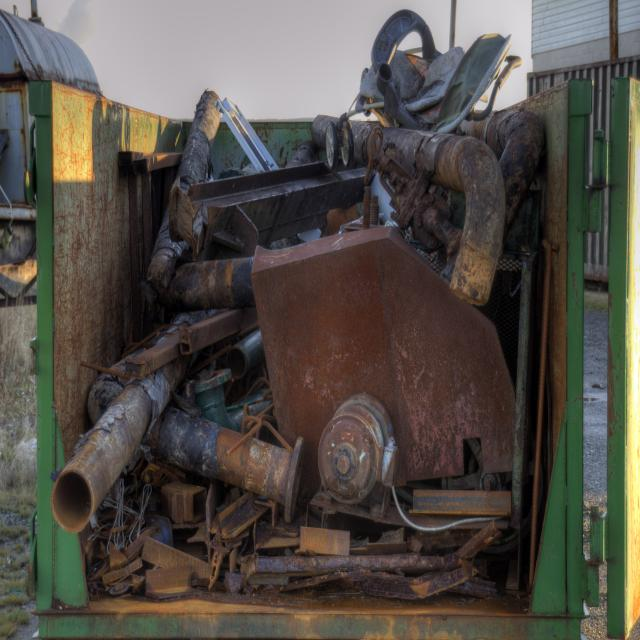metal: (163, 145, 472, 565)
